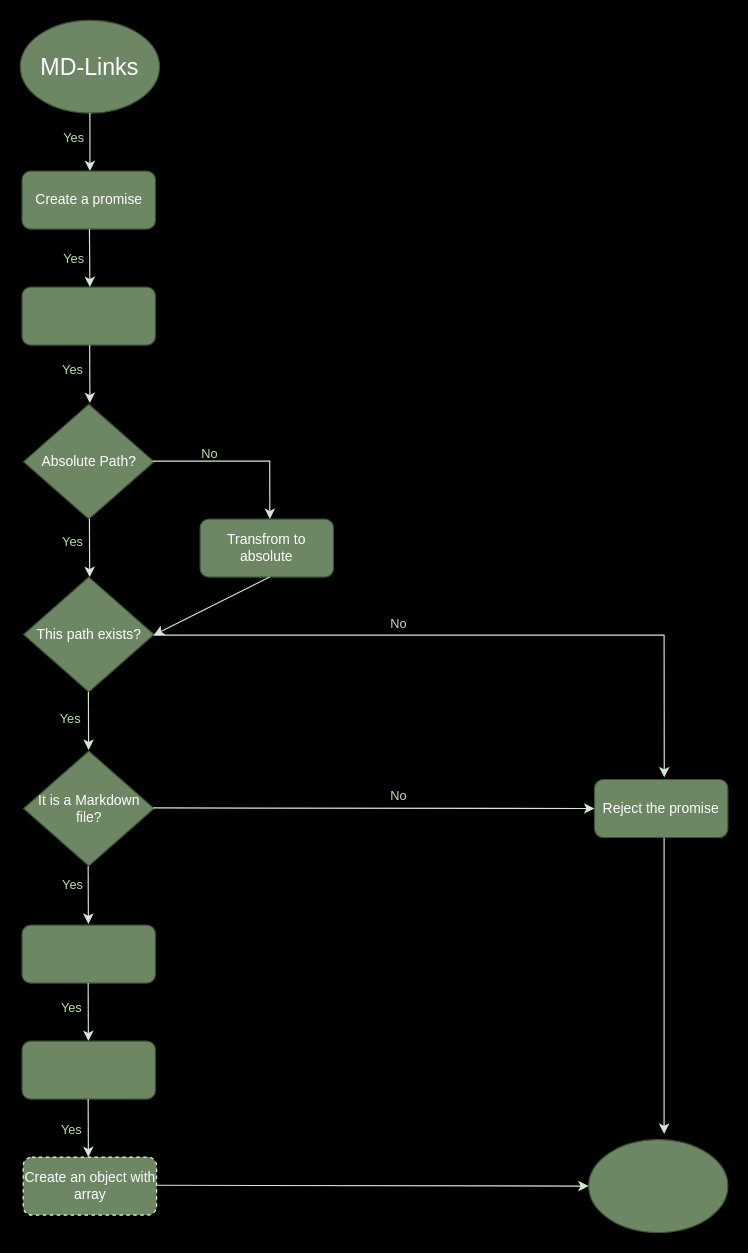
This 748x1253 diagram has some shape labels left out. The centre of each missing label's shape, as x and y in pixels:
"END" belongs at point (658, 1185).
"Find Path" belongs at point (88, 315).
"Get the links" belongs at point (88, 1069).
"Read and find the link in MD file" belongs at point (88, 953).
